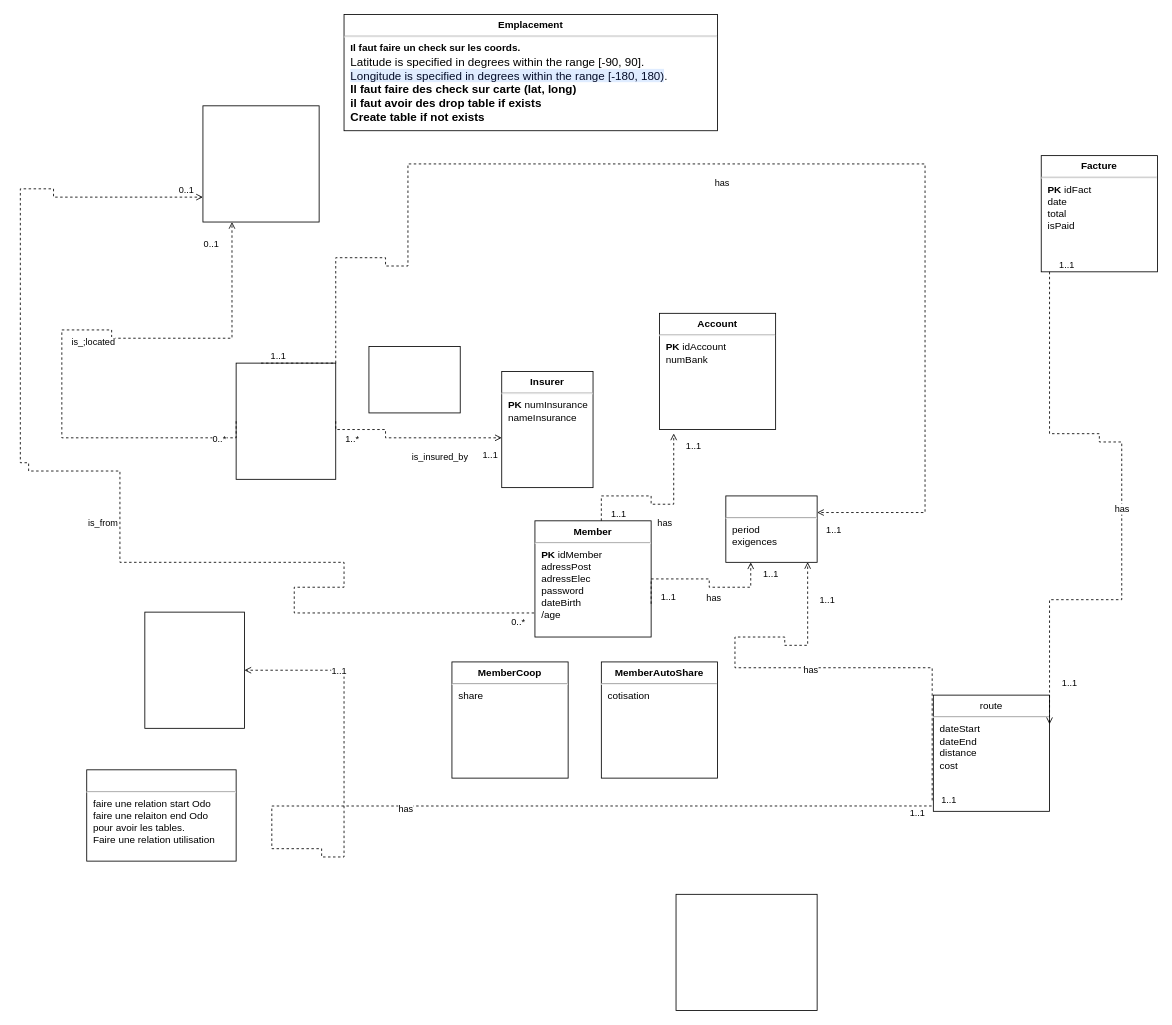
Some shapes in this 1172 by 1025 pixel diagram are drawn without their labels. Each missing label, with the centre of its shape:
"Car PK registrationPlate make model type costHour rechargeHour" goes at pixel 285 420.
"dateStart dateEnd" goes at pixel 414 379.
"Emplacement PK nameEmplacement adress coord" goes at pixel 260 163.
"Faire une asso de souhait" goes at pixel 746 952.
"Odometer PK idOdometer serviceDate value consommation" goes at pixel 194 669.
